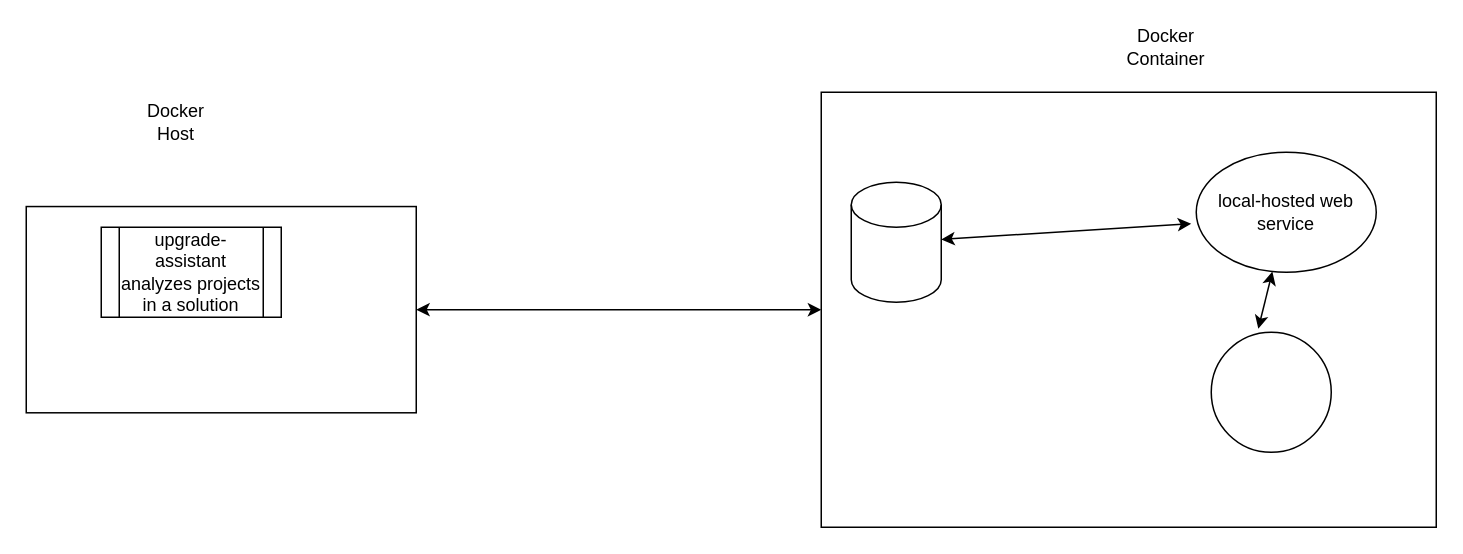
Image size: 1463x554. Some labels were removed from this diagram. Here are the shapes that lost their labels. From the top down, the centre of each, then its label:
At point (895, 241): "DB".
At point (1270, 391): "UI/Dashboard".
